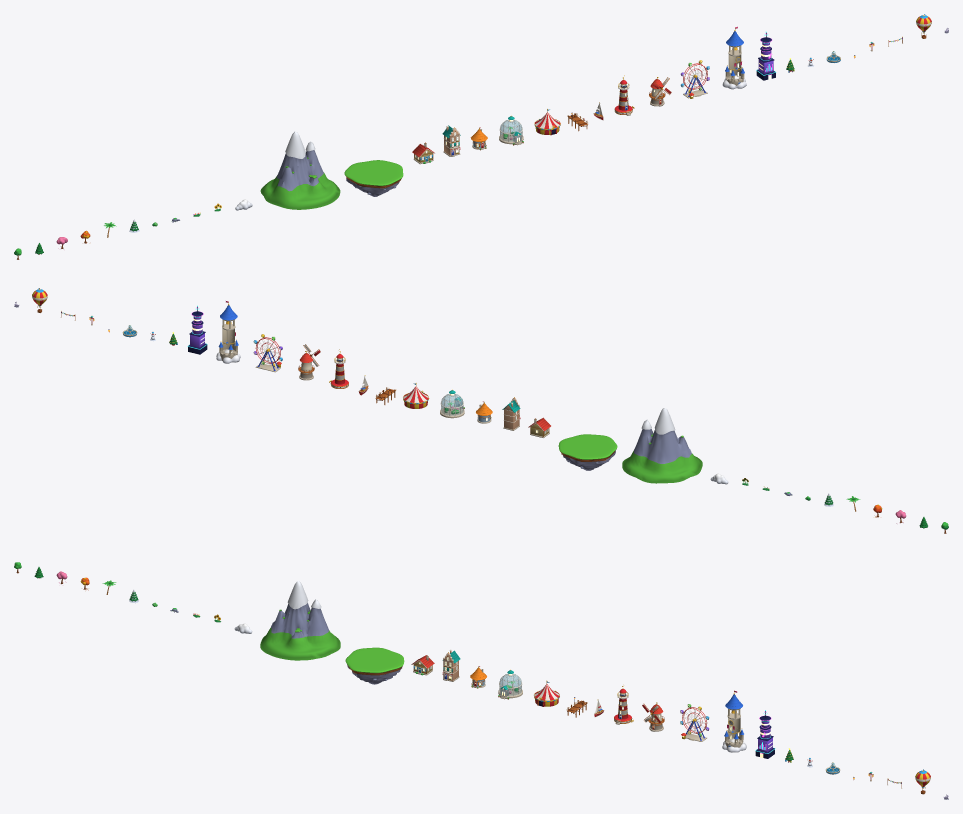
The model's file is world-kit.glb.
3 views of the same model, one above another, from view 1: azimuth 30°, elevation 25°; view 2: azimuth 150°, elevation 25°; view 3: azimuth 330°, elevation 25° (orthographic).
Visible parts, largest first — view 1: Mountain Island Rock, Island_Base Island Top; view 2: Mountain Island Rock, Island_Base Island Top; view 3: Mountain Island Rock, Island_Base Island Top.
Boxes of the visible parts, box(x1,y1,x2,y2) form: Mountain Island Rock: box(260, 150, 340, 209); Island_Base Island Top: box(344, 160, 403, 196); Mountain Island Rock: box(622, 429, 702, 483); Island_Base Island Top: box(558, 434, 617, 470); Mountain Island Rock: box(260, 603, 340, 660); Island_Base Island Top: box(345, 647, 404, 684).
Size of the model in its own units: 404 by 34.15 by 30.25.
